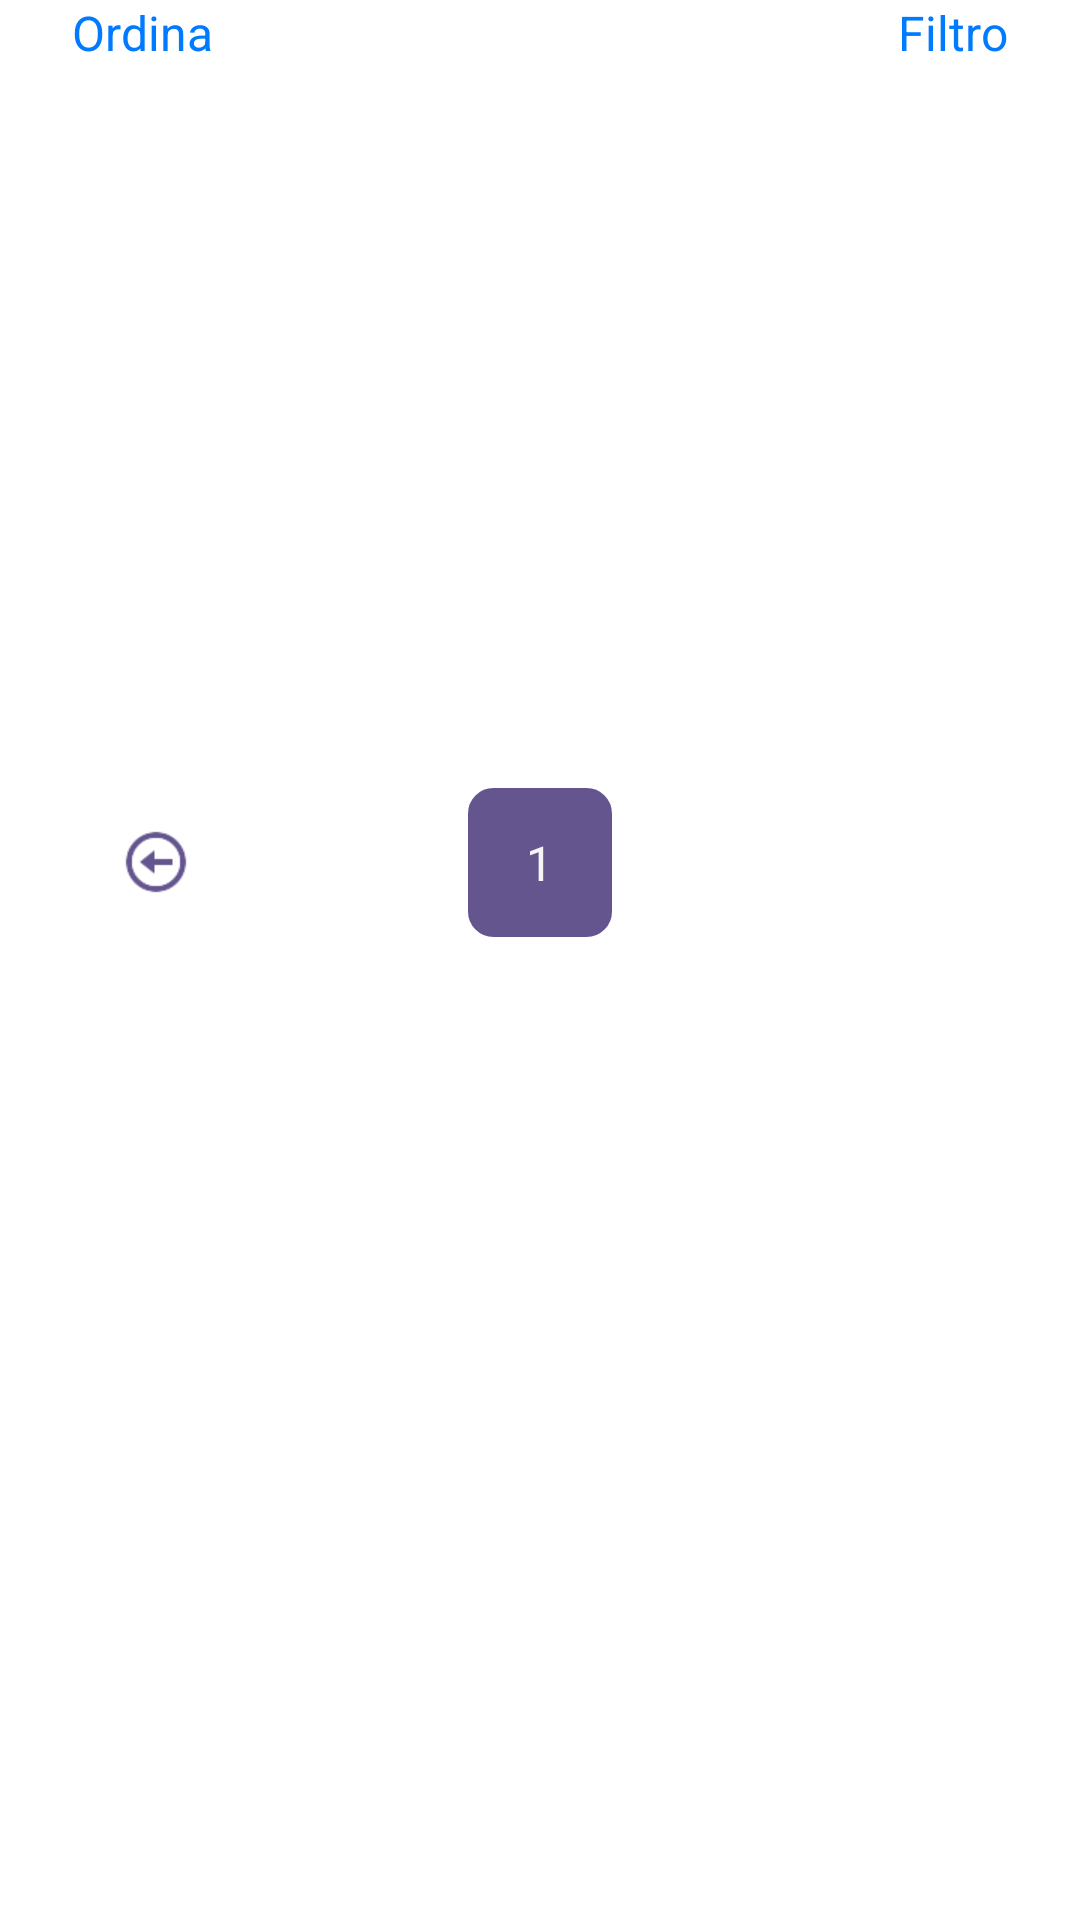

Screen size 1080px x 1920px. Icon name, then its center in pixels as [x,y]:
left arrow: [156,862]
